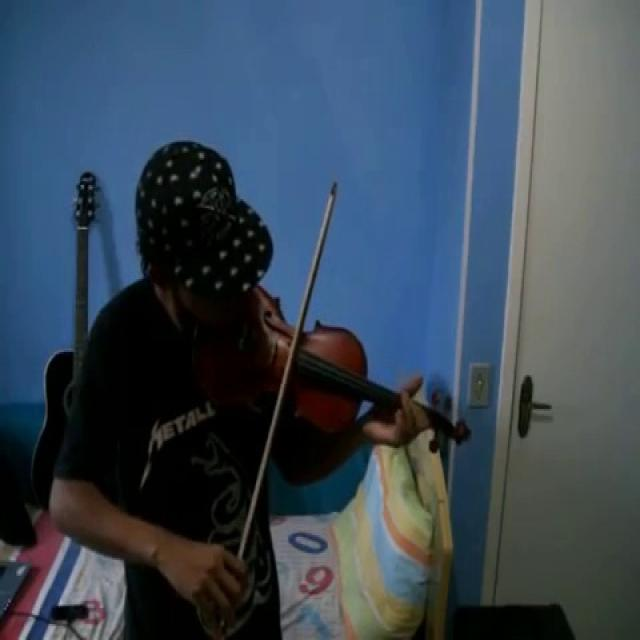Violin: (176, 279, 481, 462)
